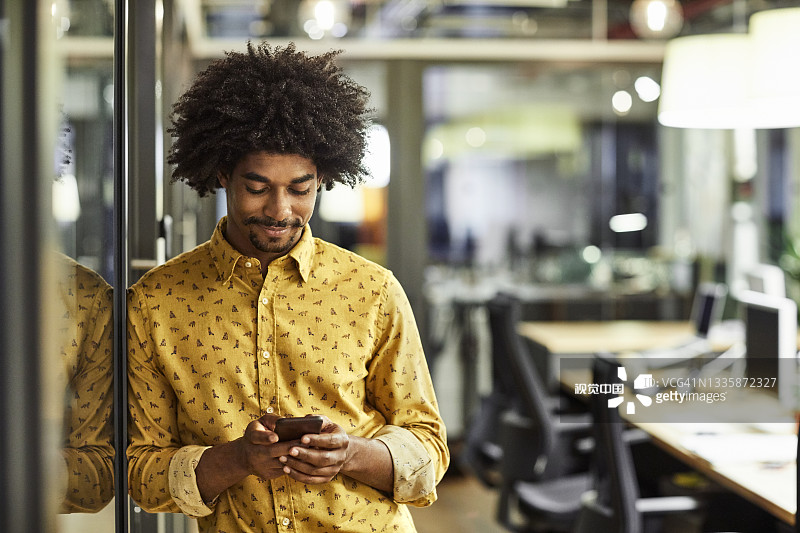reading: (226, 400, 366, 499)
